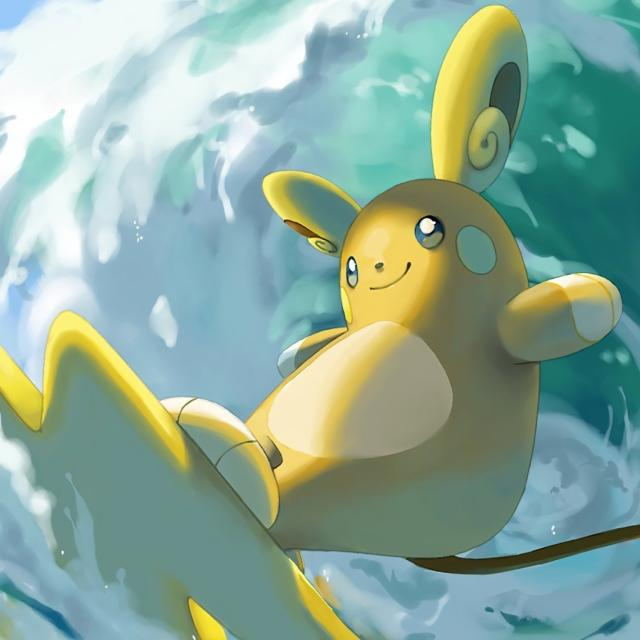Raichu: (143, 6, 543, 556)
